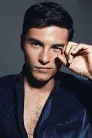male: (13, 7, 76, 94)
